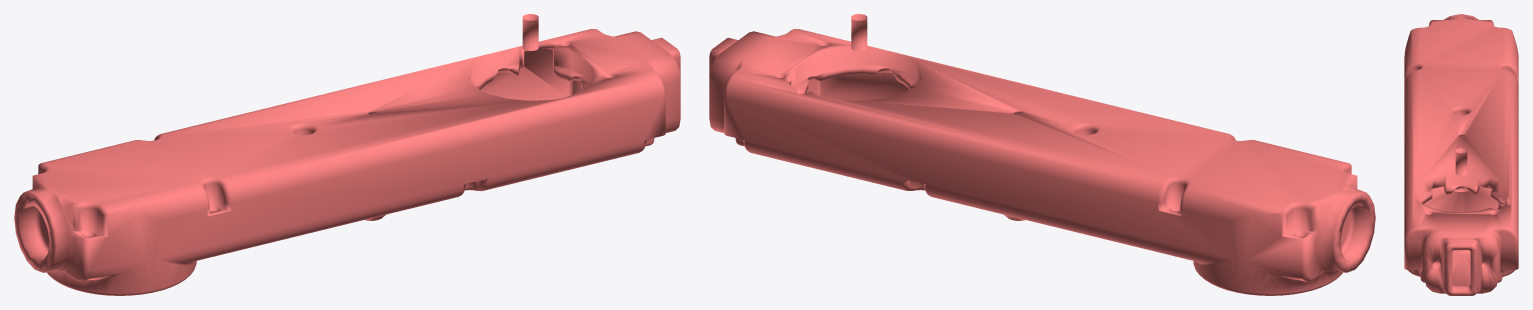
File: solo12_hip_fe_hr_7.obj
3 renders of one model, left to right at view 1: azimuth 30°, elevation 25°; view 2: azimuth 150°, elevation 25°; view 3: azimuth 270°, elevation 25°, orthographic. The views are drawn at different scales.
Size of the model in its own units: 0.1759 by 0.0389 by 0.037.
